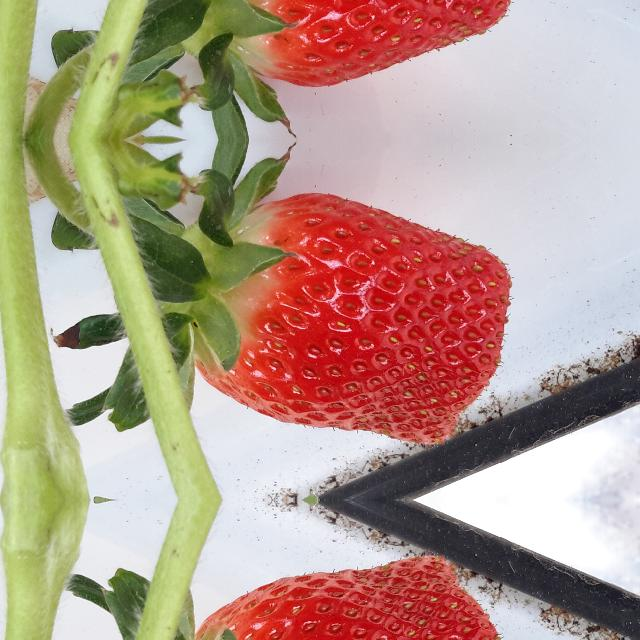Health_100: (194, 192, 512, 446), (194, 0, 512, 88), (194, 553, 512, 640)
